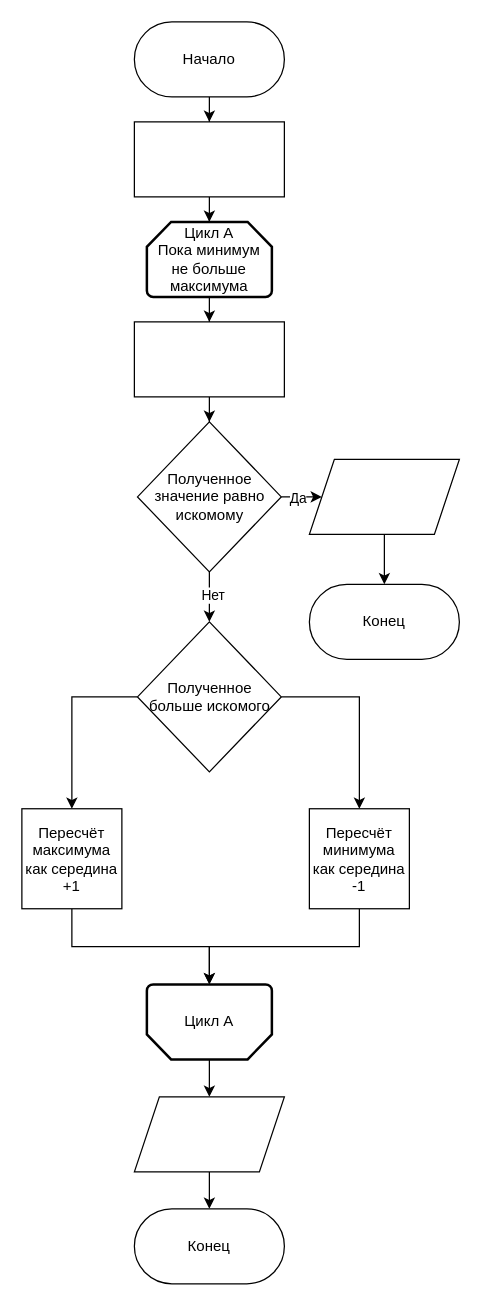
Some shapes in this 481 by 1306 pixel diagram are drawn without their labels. Here are the shapes that lost their labels. From the top down, the centre of each, then its label:
At [208,159]: "Определение начала и конца массива".
At [208,359]: "Определение центра".
At [383,496]: "Вернуть индекс текущего элемента".
At [208,1134]: "Вернуть -1".
